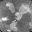people: (19, 3, 31, 14), (5, 2, 16, 14), (10, 20, 18, 32), (15, 12, 22, 21), (1, 16, 10, 22)
